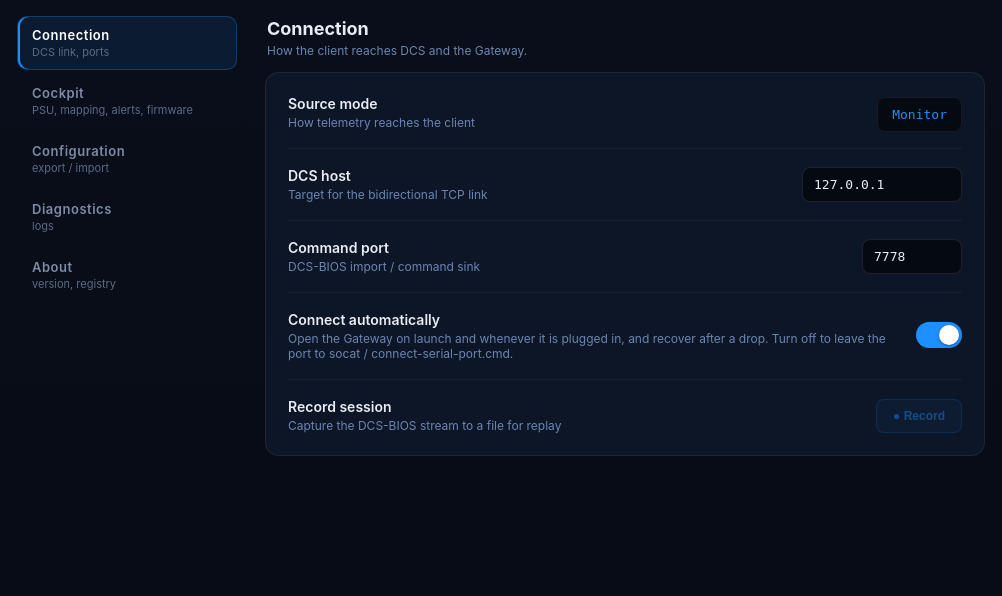
T36 Settings › Configuration › Automatic backups (#136) › Show in Finder asks main to open the folder; on Windows it says Explorer
Click the button "Configuration export / import". click: [127, 159]
box: x1=17 y1=132 x2=237 y2=186
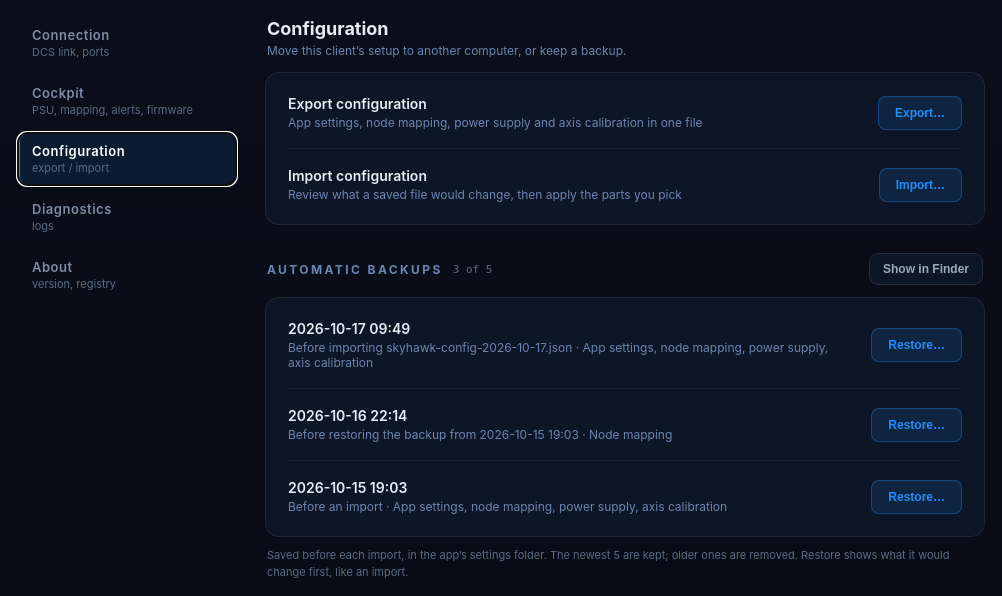
Click the button "Show in Finder". click: [926, 269]
box: x1=869 y1=253 x2=983 y2=285
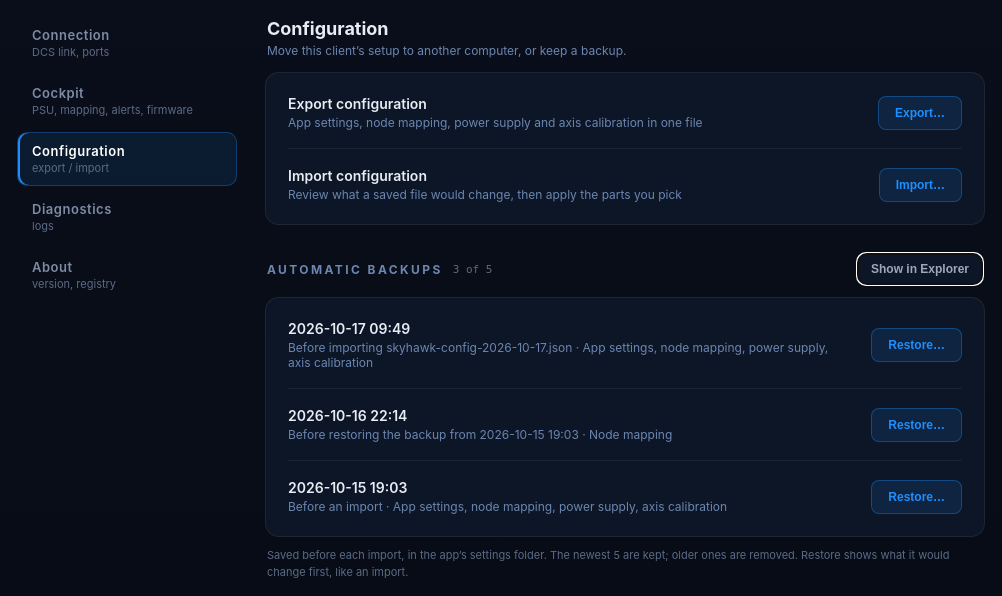
Now the button "Show in Explorer" is shown, box x1=857 y1=253 x2=983 y2=285
